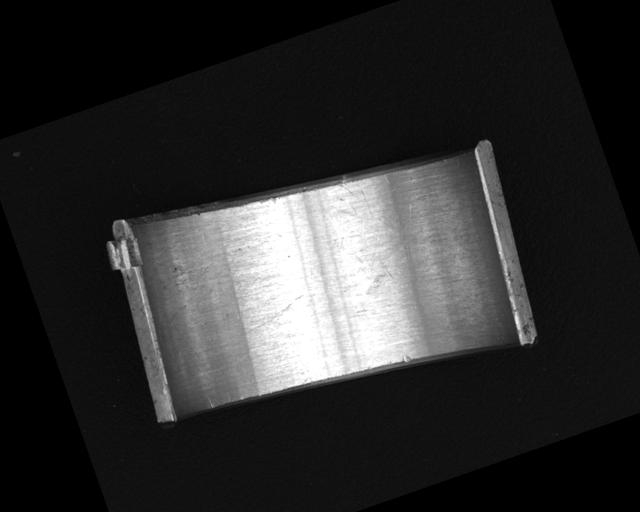blot: (350, 237, 417, 298)
bruise: (401, 353, 412, 364)
nick: (205, 394, 216, 410)
